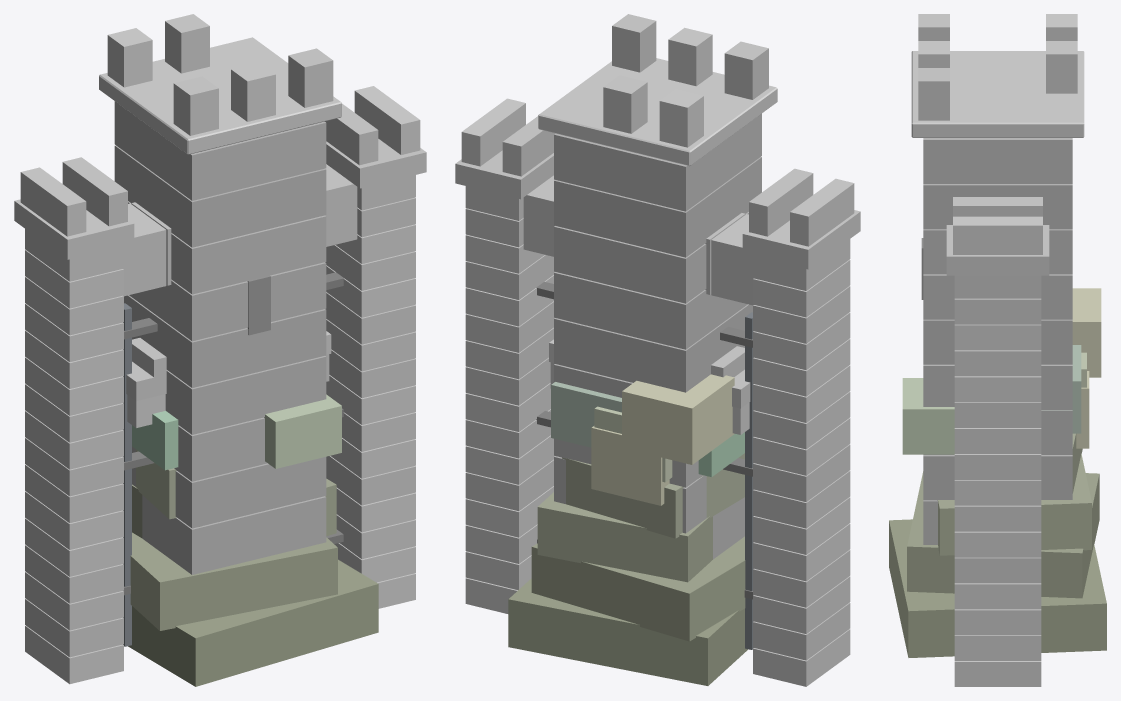
Rendered from sunlit-ruins-kit.glb.
3 views of the same model, side by side, from view 1: azimuth 30°, elevation 25°; view 2: azimuth 150°, elevation 25°; view 3: azimuth 270°, elevation 25° (orthographic). The views are drawn at different scales.
Visible parts, largest first — view 1: king_gate, distant_tower, rock_terrace, tree, arch; view 2: king_gate, distant_tower, rock_terrace, tree, arch; view 3: distant_tower, king_gate, rock_terrace, tree.
Part boxes in pixels (left/top/right/bottom): king_gate: left=14, top=86, right=426, bottom=684; distant_tower: left=99, top=14, right=341, bottom=574; rock_terrace: left=128, top=449, right=378, bottom=686; tree: left=132, top=394, right=341, bottom=470; arch: left=126, top=331, right=331, bottom=427; king_gate: left=455, top=98, right=860, bottom=686; distant_tower: left=538, top=14, right=777, bottom=559; rock_terrace: left=508, top=453, right=747, bottom=685; tree: left=551, top=374, right=744, bottom=505; arch: left=549, top=339, right=750, bottom=434; distant_tower: left=911, top=14, right=1084, bottom=544; king_gate: left=946, top=197, right=1049, bottom=686; rock_terrace: left=889, top=433, right=1106, bottom=657; tree: left=902, top=288, right=1101, bottom=454.
Bounding box in the file's own units: 6.02 × 9.52 × 3.28.
